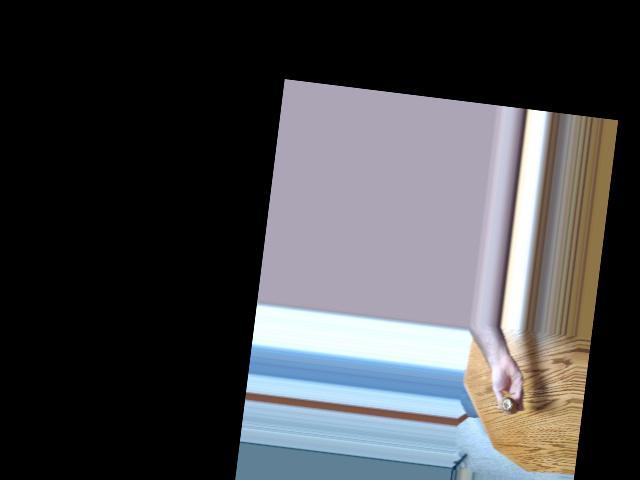sweet_potato: (496, 396, 515, 417)
